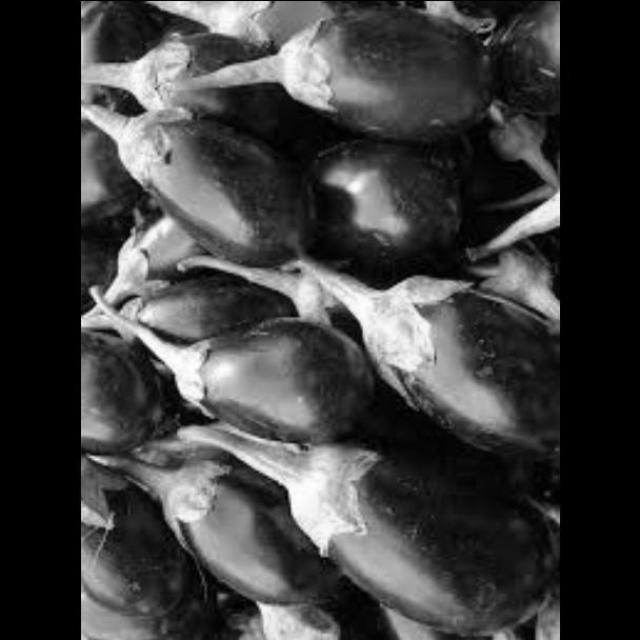ca tim: (298, 236, 558, 488), (247, 420, 534, 639), (84, 86, 331, 280), (240, 6, 507, 175), (126, 442, 348, 615), (106, 313, 353, 452), (290, 129, 493, 296), (88, 18, 299, 144), (100, 254, 313, 371), (79, 472, 188, 640), (80, 316, 168, 469)
